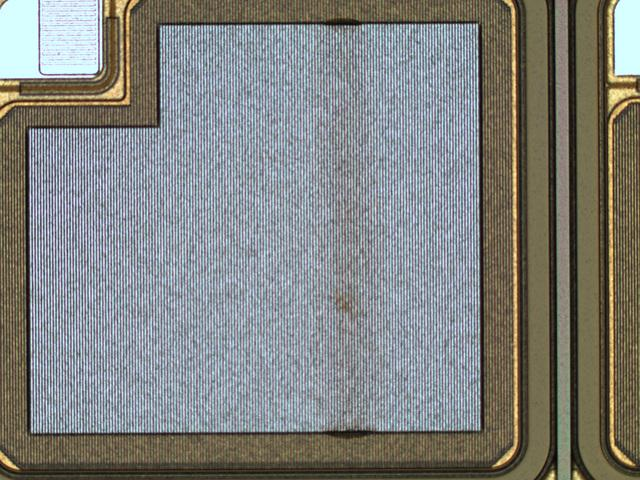SEZ BURNT: (308, 17, 390, 441)
